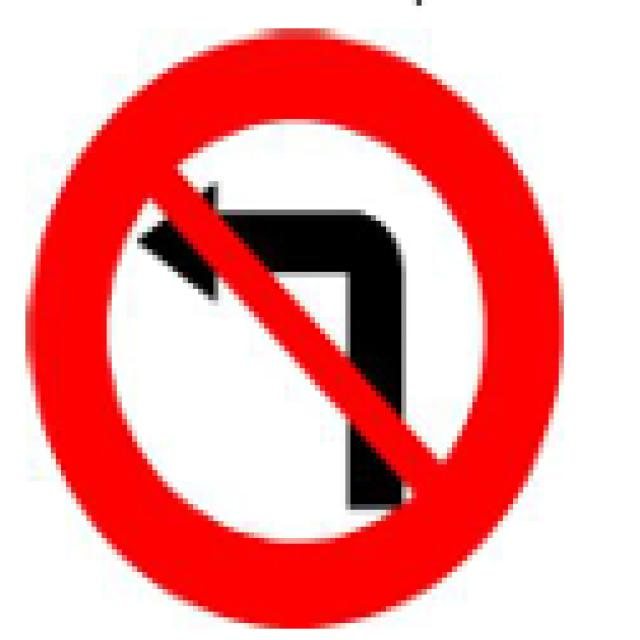Bien bao cam re trai: (10, 11, 605, 640)
